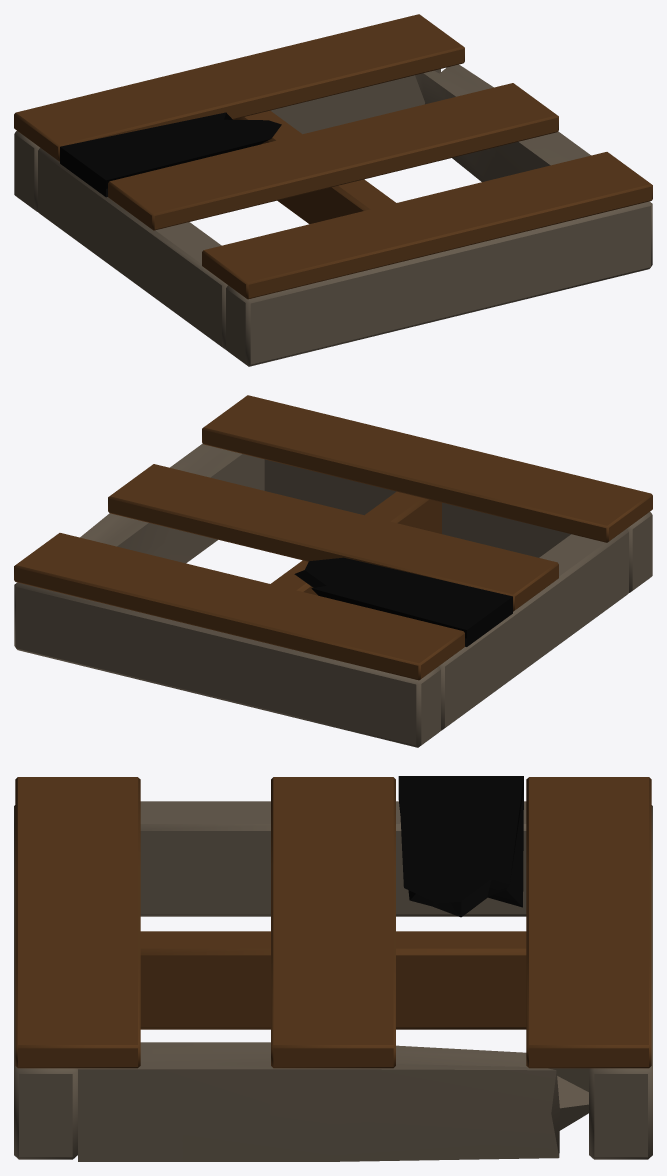
The model's file is podest_holz_kaputt.glb.
3 views of the same model, one above another, from view 1: azimuth 30°, elevation 25°; view 2: azimuth 150°, elevation 25°; view 3: azimuth 270°, elevation 25° (orthographic). The views are drawn at different scales.
Parts seen in each view (by area): view 1: podest_holz_kaputt; view 2: podest_holz_kaputt; view 3: podest_holz_kaputt.
Part boxes in pixels (bbox=[...]): podest_holz_kaputt: bbox=[14, 14, 652, 366]; podest_holz_kaputt: bbox=[14, 395, 652, 747]; podest_holz_kaputt: bbox=[14, 776, 652, 1161].
Bounding box in the file's own units: 1 × 0.2 × 1.
